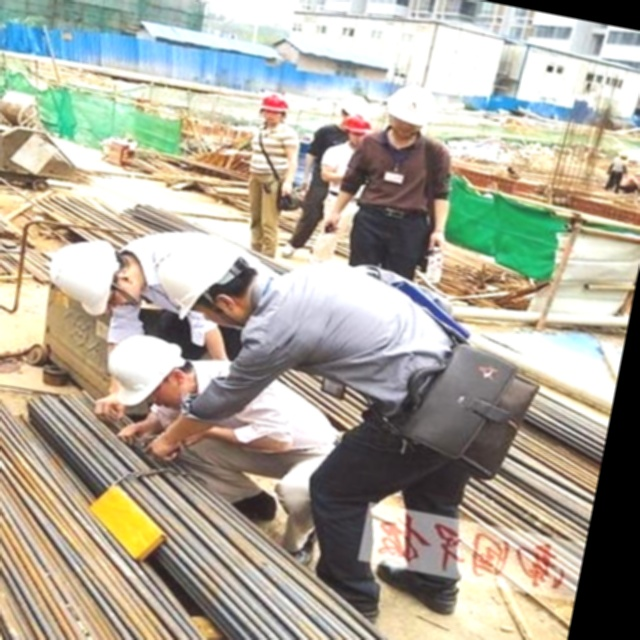Con_Casco: (375, 81, 438, 140)
